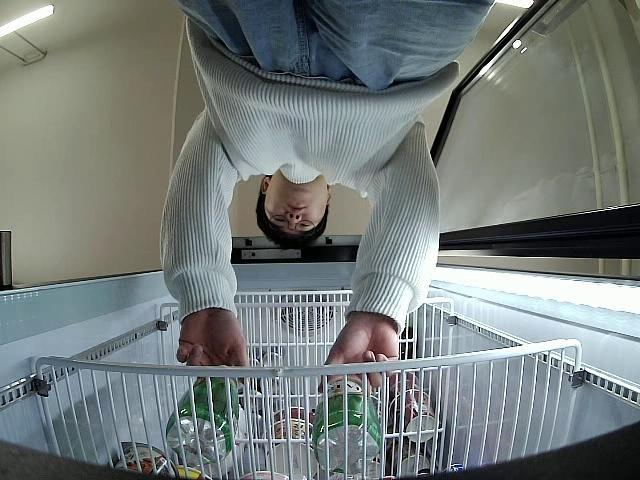18_trevi: (166, 364, 238, 470), (307, 374, 378, 474)
